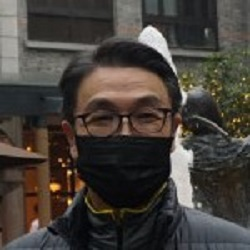mask: (70, 115, 178, 208)
